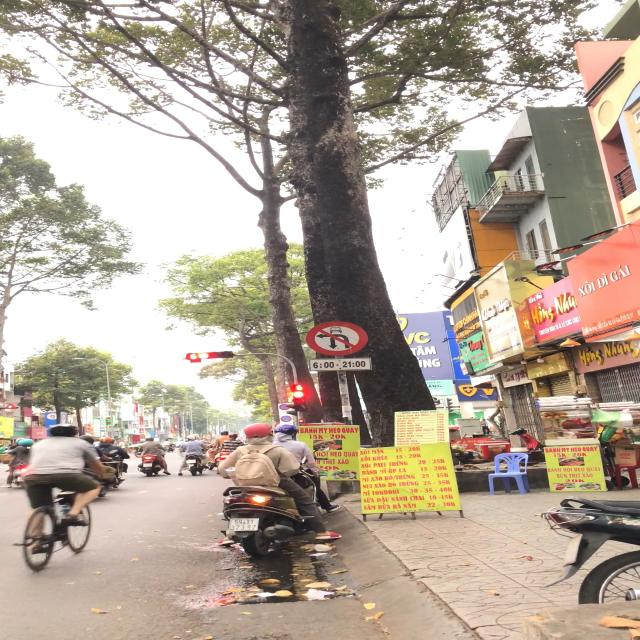Bien bao cam oto re trai va quay dau xe: (304, 319, 372, 358)
